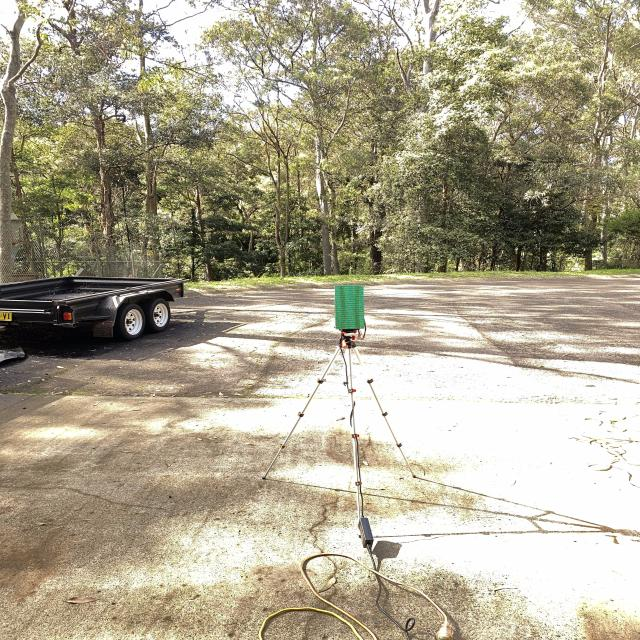matrix: (332, 283, 366, 330)
